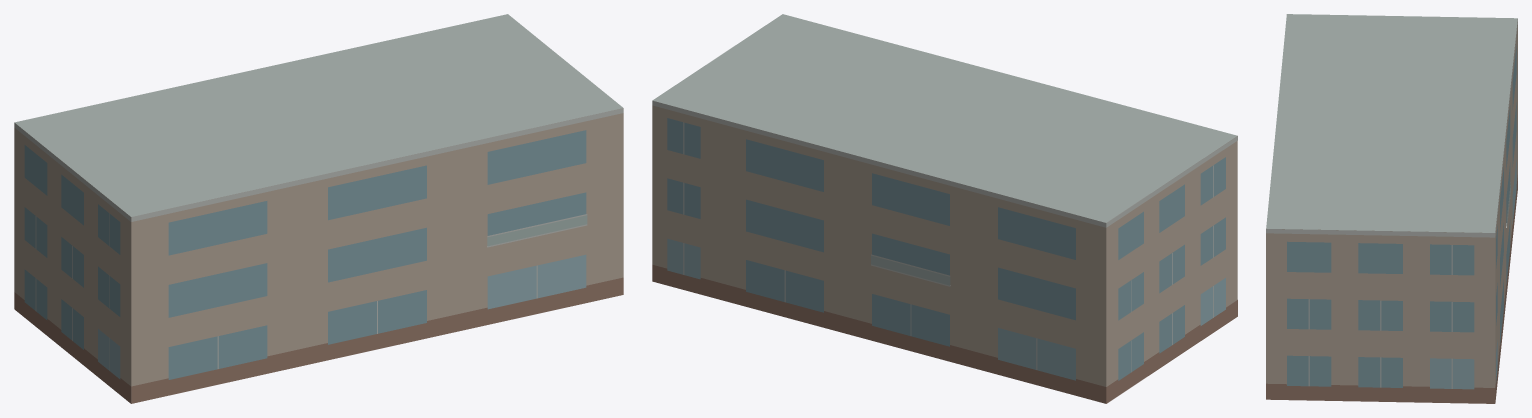
File: survey-upis-32925997.glb
The picture shows the model from 3 angles, left to right: view 1: azimuth 30°, elevation 25°; view 2: azimuth 150°, elevation 25°; view 3: azimuth 270°, elevation 25°; orthographic projection. The views are drawn at different scales.
Parts seen in each view (by area): view 1: survey-upis-32925997.tmp; view 2: survey-upis-32925997.tmp; view 3: survey-upis-32925997.tmp.
Boxes of the visible parts, x1,y1,x2,y2 form: survey-upis-32925997.tmp: (14, 14, 623, 403); survey-upis-32925997.tmp: (652, 14, 1237, 403); survey-upis-32925997.tmp: (1266, 14, 1517, 403).
Size of the model in its own units: 25.16 by 9.15 by 12.23.
